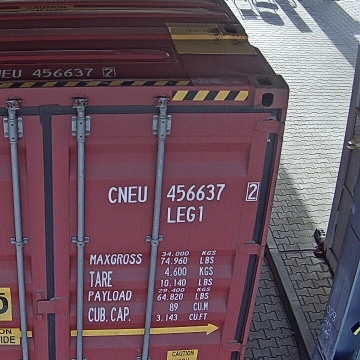serial_id: (108, 184, 258, 203)
